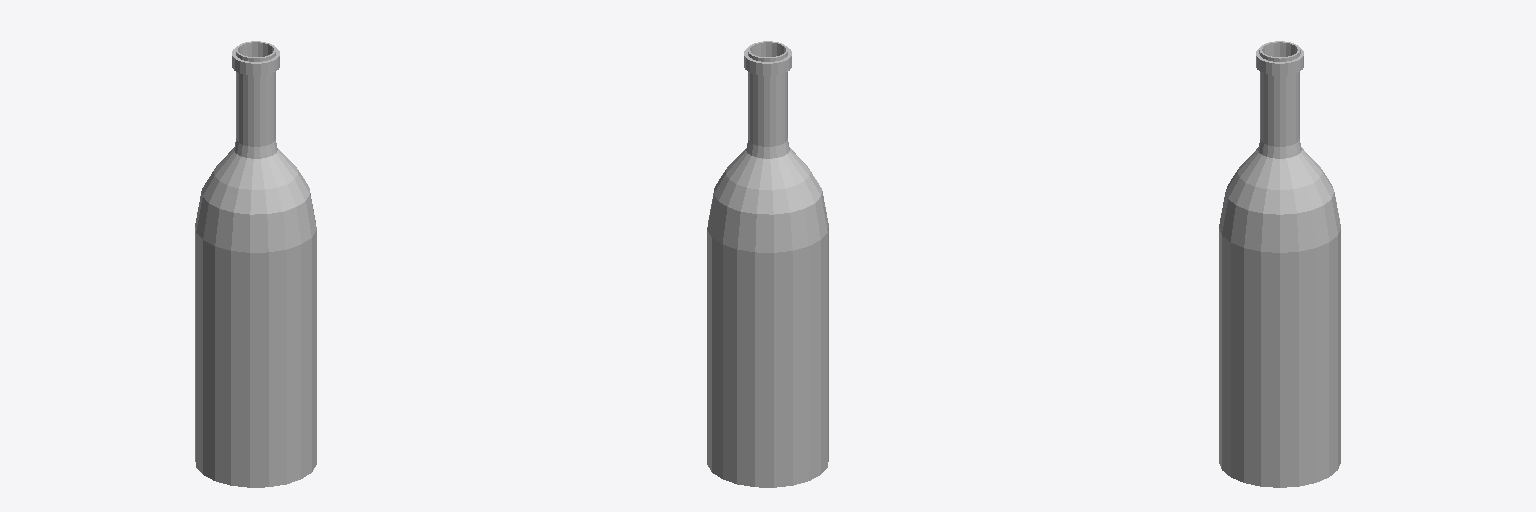
The model's file is GlassBottle.obj.
The picture shows the model from 3 angles: view 1: azimuth 30°, elevation 25°; view 2: azimuth 150°, elevation 25°; view 3: azimuth 270°, elevation 25°; orthographic projection.
Bounding box in the file's own units: 0.0612 × 0.2279 × 0.0612.